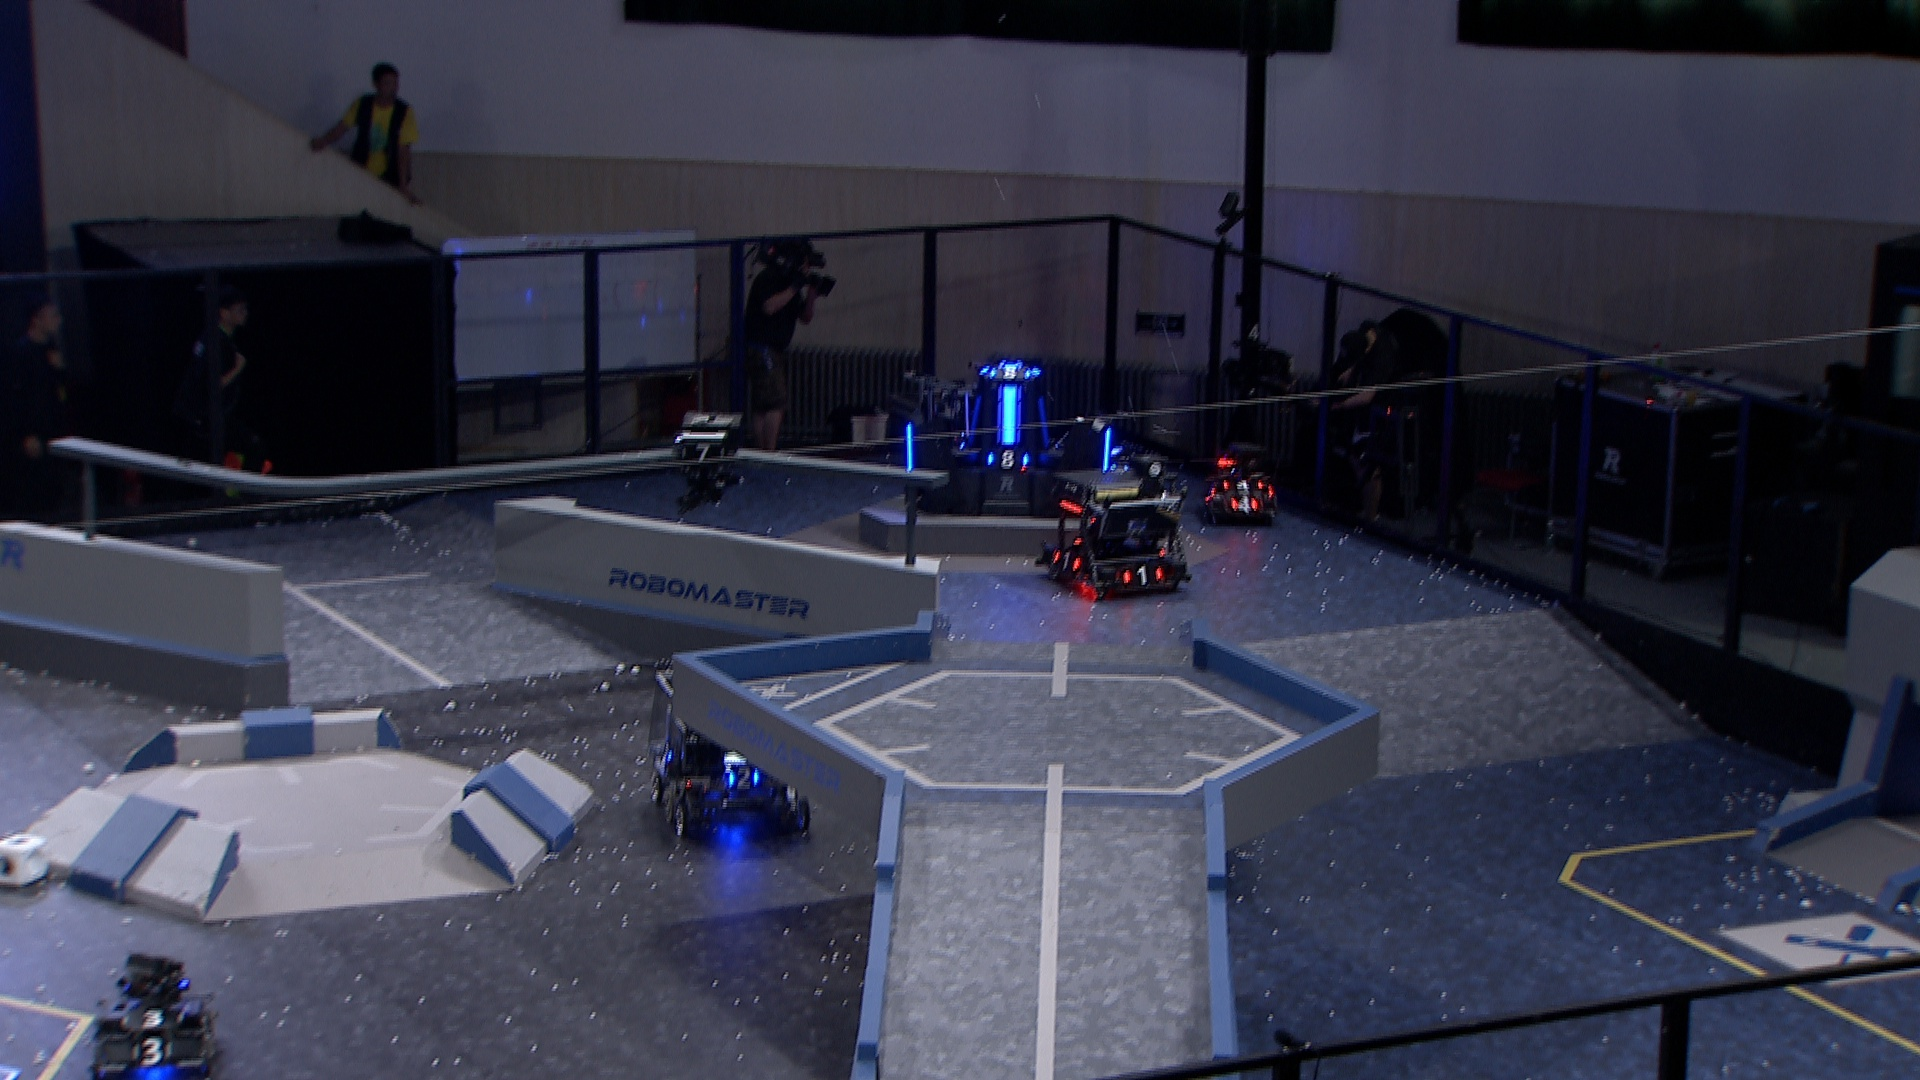armor: (117, 1004, 190, 1034), (131, 1034, 175, 1067), (998, 384, 1021, 447), (675, 440, 727, 465), (724, 761, 764, 793), (982, 448, 1033, 472), (1120, 560, 1163, 585), (963, 396, 984, 446), (988, 363, 1033, 382), (902, 419, 916, 472), (1051, 550, 1084, 572), (1101, 425, 1116, 472), (1038, 394, 1050, 450), (1225, 495, 1261, 513), (1221, 476, 1266, 491)
base: (893, 357, 1122, 520)
car: (651, 665, 818, 844), (1036, 465, 1192, 605), (882, 357, 1013, 498), (86, 949, 225, 1080), (1197, 440, 1284, 529)
watcher: (669, 405, 749, 518)
